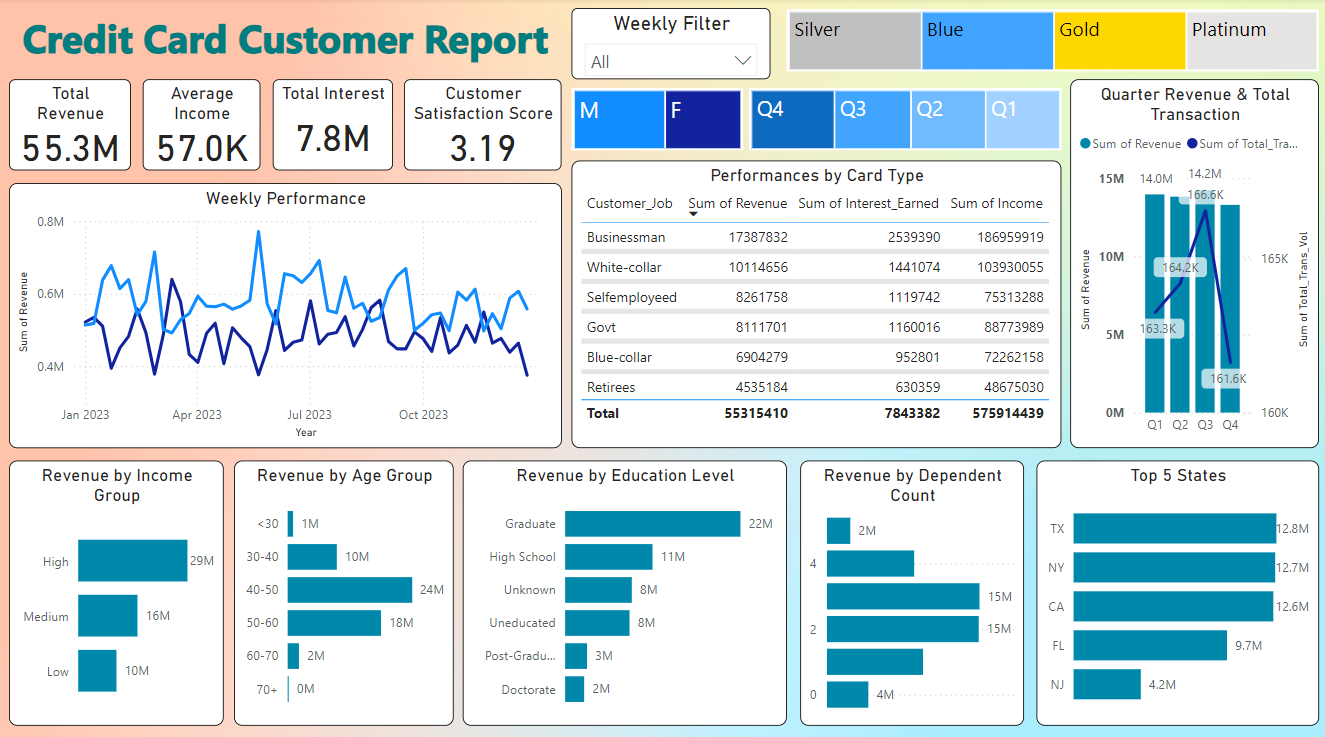

This screenshot's page, from the dashboard's own definition file:
{"tool":"powerbi","page":{"name":"Customer Details","canvas":[1280,720],"ordinal":1},"visuals":[{"type":"textbox","box":[9.7,8.4,533.2,62.7],"z":0},{"type":"lineStackedColumnComboChart","title":"Quarter Revenue & Total Transaction","fields":{"Y":["Sum(credit_card.Revenue)"],"Category":["credit_card.Qtr"],"Y2":["Sum(credit_card.Total_Trans_Vol)"]},"box":[1033.9,78.4,240.1,355.9],"z":1000},{"type":"card","title":"Total Revenue","fields":{"Values":["Sum(credit_card.Revenue)"]},"box":[9.6,78.7,117.6,88.2],"z":2000},{"type":"card","title":"Average Income","fields":{"Values":["Avg(customer.Income)"]},"box":[138.7,78.4,113.4,88.1],"z":3000},{"type":"card","title":"Total Interest","fields":{"Values":["Sum(credit_card.Interest_Earned)"]},"box":[264.2,78.4,115.8,88.1],"z":4000},{"type":"card","title":"Customer Satisfaction Score","fields":{"Values":["Avg(customer.Cust_Satisfaction_Score)"]},"box":[390.9,78.4,152,88.1],"z":5000},{"type":"slicer","title":"Weekly Filter","fields":{"Values":["credit_card.Week_Start_Date"]},"box":[552.5,9.7,191.8,68.8],"z":6000},{"type":"treemap","fields":{"Group":["credit_card.Qtr"],"Values":["Avg(credit_card.Client_Num)"]},"box":[723.9,86.9,301.6,60.3],"z":7000},{"type":"treemap","fields":{"Group":["credit_card.Card_Category"],"Values":["Avg(credit_card.Client_Num)"]},"box":[760.1,10.9,513.9,60.3],"z":8000},{"type":"lineChart","title":"Weekly Performance","fields":{"Y":["Sum(credit_card.Revenue)"],"Series":["customer.Gender"],"Category":["credit_card.Week_Start_Date.Variation.Date Hierarchy.Year","credit_card.Week_Start_Date.Variation.Date Hierarchy.Month","credit_card.Week_Start_Date.Variation.Date Hierarchy.Day"]},"box":[9.7,178.6,533.2,255.8],"z":9000},{"type":"treemap","title":"Revenue by Gender","fields":{"Group":["customer.Gender"],"Values":["Sum(credit_card.Revenue)"]},"box":[552.5,86.9,165.3,60.3],"z":10000},{"type":"barChart","title":"Revenue by Income Group","fields":{"Y":["Sum(credit_card.Revenue)"],"Category":["customer.IncomeGroup"]},"box":[9.7,446.4,207.5,255.8],"z":11000},{"type":"barChart","title":"Revenue by Age Group","fields":{"Y":["Sum(credit_card.Revenue)"],"Category":["customer.AgeGroup"]},"box":[226.8,446.4,212.3,255.8],"z":12000},{"type":"barChart","title":"Top 5 States","fields":{"Y":["Sum(credit_card.Revenue)"],"Category":["customer.state_cd"]},"box":[1001.3,446.4,272.7,255.8],"z":13000},{"type":"barChart","title":"Revenue by Education Level","fields":{"Y":["Sum(credit_card.Revenue)"],"Category":["customer.Education_Level"]},"box":[447.6,446.4,312.5,255.8],"z":14000},{"type":"barChart","title":"Revenue by Dependent Count","fields":{"Y":["Sum(credit_card.Revenue)"],"Category":["customer.Dependent_Count"]},"box":[773.3,446.4,216,255.8],"z":15000},{"type":"tableEx","title":"Performances by Card Type","fields":{"Values":["customer.Customer_Job","Sum(credit_card.Revenue)","Sum(credit_card.Interest_Earned)","Sum(customer.Income)"]},"box":[552.5,156.8,472.9,277.5],"z":16000}]}

Visuals, with their boxes in screenshot pixels (x1, y1, x2, y2), scaled from the page's 1280x720 canvas onto the 1325x737 screenshot:
textbox: crop(10, 9, 562, 73)
"Quarter Revenue & Total Transaction" lineStackedColumnComboChart: crop(1070, 80, 1319, 445)
"Total Revenue" card: crop(10, 81, 132, 171)
"Average Income" card: crop(144, 80, 261, 170)
"Total Interest" card: crop(273, 80, 393, 170)
"Customer Satisfaction Score" card: crop(405, 80, 562, 170)
"Weekly Filter" slicer: crop(572, 10, 770, 80)
treemap - credit_card.Qtr x Avg(credit_card.Client_Num): crop(749, 89, 1062, 151)
treemap - credit_card.Card_Category x Avg(credit_card.Client_Num): crop(787, 11, 1319, 73)
"Weekly Performance" lineChart: crop(10, 183, 562, 445)
"Revenue by Gender" treemap: crop(572, 89, 743, 151)
"Revenue by Income Group" barChart: crop(10, 457, 225, 719)
"Revenue by Age Group" barChart: crop(235, 457, 455, 719)
"Top 5 States" barChart: crop(1037, 457, 1319, 719)
"Revenue by Education Level" barChart: crop(463, 457, 787, 719)
"Revenue by Dependent Count" barChart: crop(800, 457, 1024, 719)
"Performances by Card Type" tableEx: crop(572, 161, 1061, 445)
